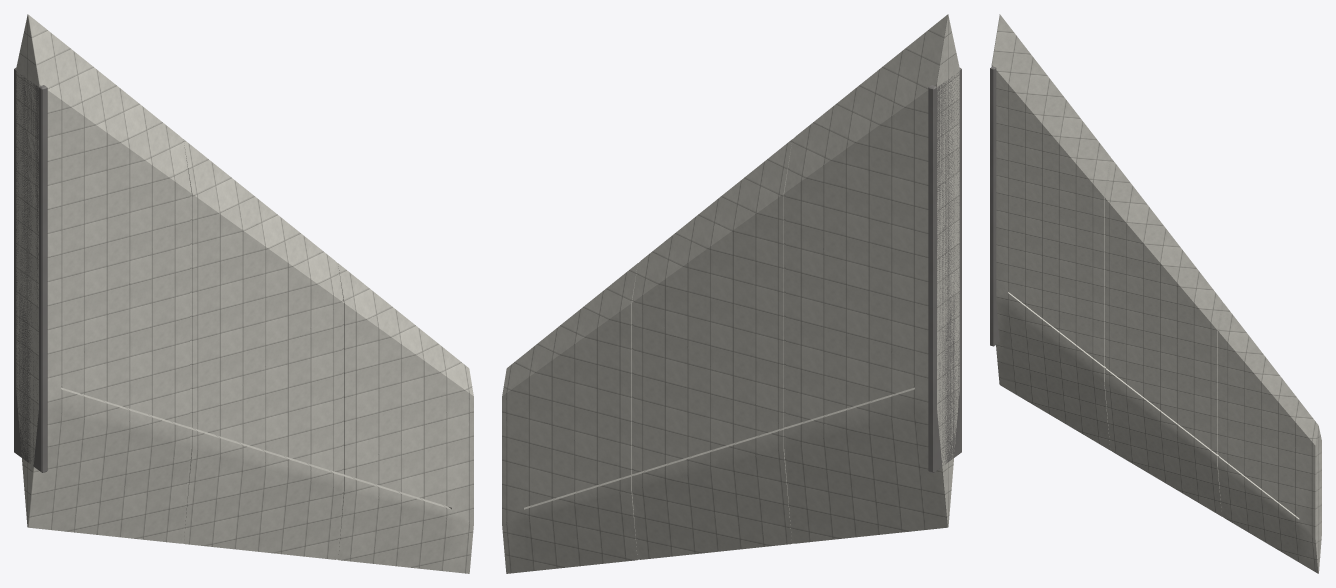
Rendered from ax_aero_21_tlv_vertical_tail_m.glb.
The picture shows the model from 3 angles, left to right: view 1: azimuth 30°, elevation 25°; view 2: azimuth 150°, elevation 25°; view 3: azimuth 330°, elevation 25°; orthographic projection. The views are drawn at different scales.
Parts seen in each view (by area): view 1: wing_top, rudder, root_flange, wing_underside; view 2: wing_underside, rudder, root_flange, wing_top; view 3: wing_top, rudder, root_flange, wing_underside.
Part boxes in pixels (bbox=[...]): wing_top: bbox=[27, 14, 473, 573]; rudder: bbox=[50, 387, 451, 571]; root_flange: bbox=[14, 68, 47, 472]; wing_underside: bbox=[16, 15, 27, 526]; wing_underside: bbox=[502, 14, 948, 573]; rudder: bbox=[524, 387, 925, 571]; root_flange: bbox=[928, 68, 961, 472]; wing_top: bbox=[948, 15, 959, 526]; wing_top: bbox=[991, 14, 1318, 573]; rudder: bbox=[1008, 292, 1302, 564]; root_flange: bbox=[990, 66, 999, 346]; wing_underside: bbox=[1318, 426, 1321, 573].
Size of the model in its own units: 2.88 by 4.16 by 0.32.
2 materials, 2 textured.
